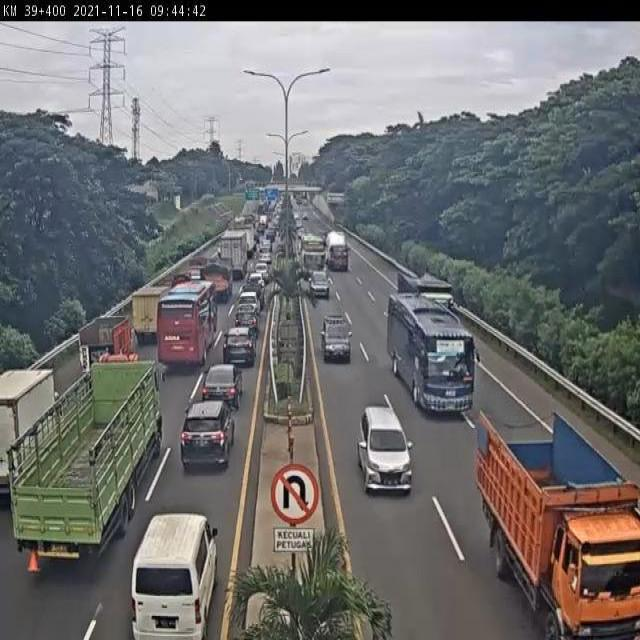car: (359, 405, 412, 495), (178, 408, 233, 476), (200, 369, 241, 411), (323, 312, 353, 360), (221, 329, 253, 368), (232, 308, 259, 335), (236, 288, 261, 316)
truck: (478, 413, 640, 640), (12, 363, 164, 553), (129, 512, 220, 640), (389, 295, 475, 417), (0, 362, 59, 502), (156, 287, 213, 371), (399, 267, 458, 332), (77, 319, 132, 369), (128, 287, 166, 345), (196, 264, 232, 304)
